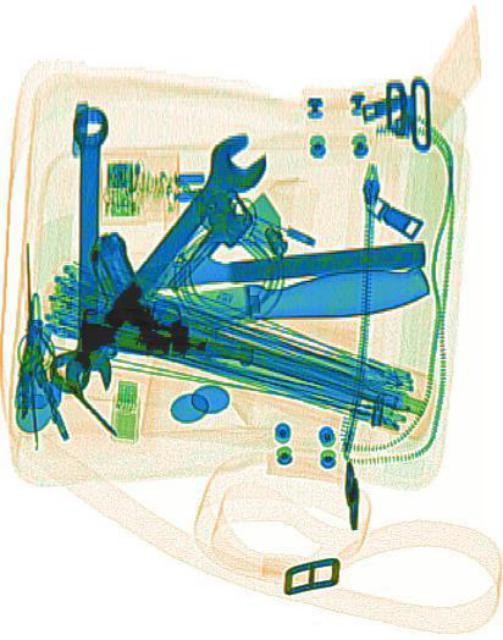Gun: (83, 228, 258, 362)
Knife: (98, 259, 427, 339), (57, 236, 424, 294)
Wrench: (33, 121, 270, 407), (63, 106, 111, 397)
